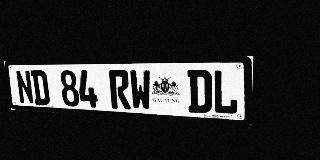4: (77, 70, 98, 108)
8: (59, 70, 80, 107)
D: (187, 70, 212, 114), (30, 70, 50, 105)
L: (213, 70, 239, 115)
N: (15, 70, 35, 104)
R: (109, 70, 131, 109)
W: (129, 70, 152, 110)
